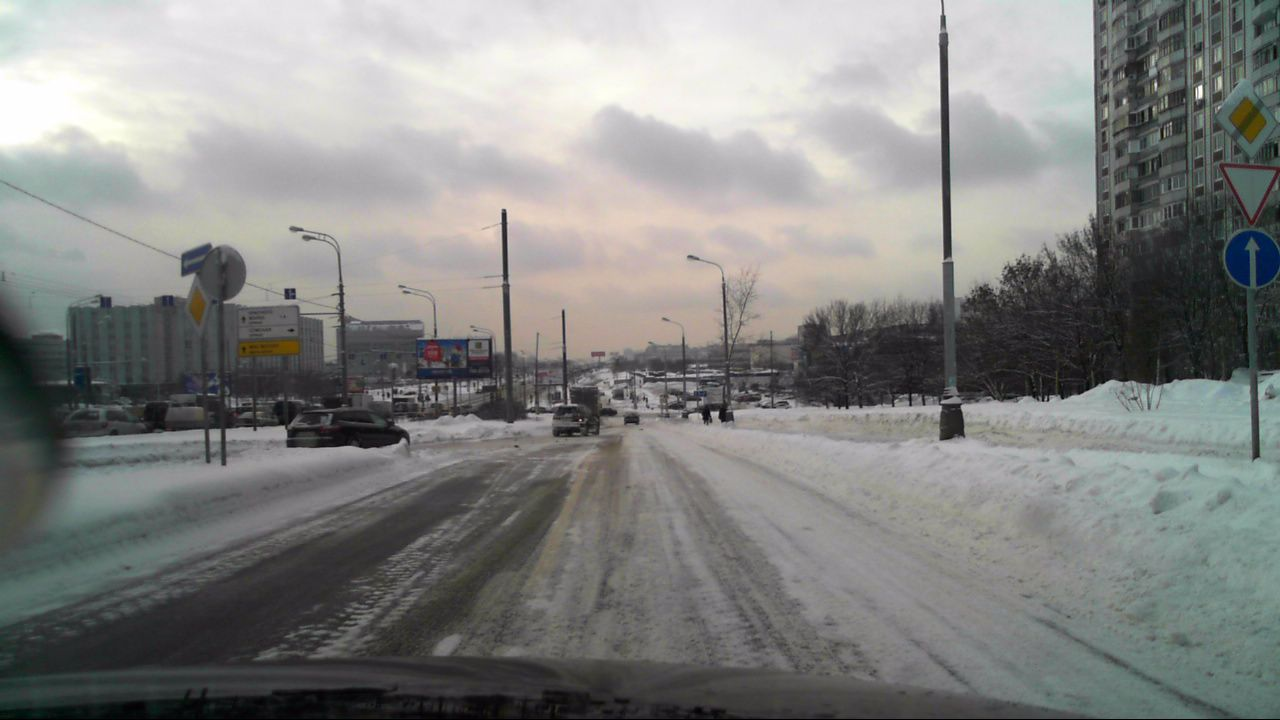main road: (1218, 78, 1277, 156)
